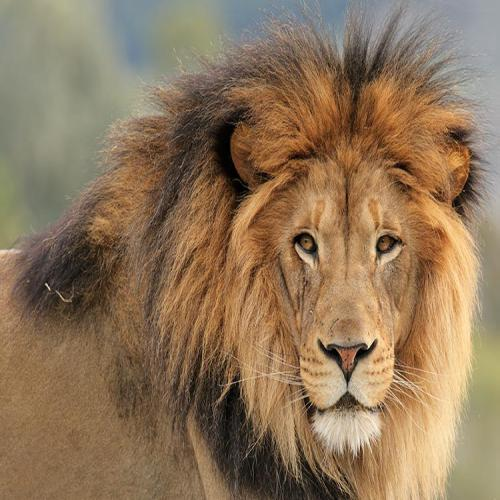lion-endangered: (0, 45, 484, 499)
